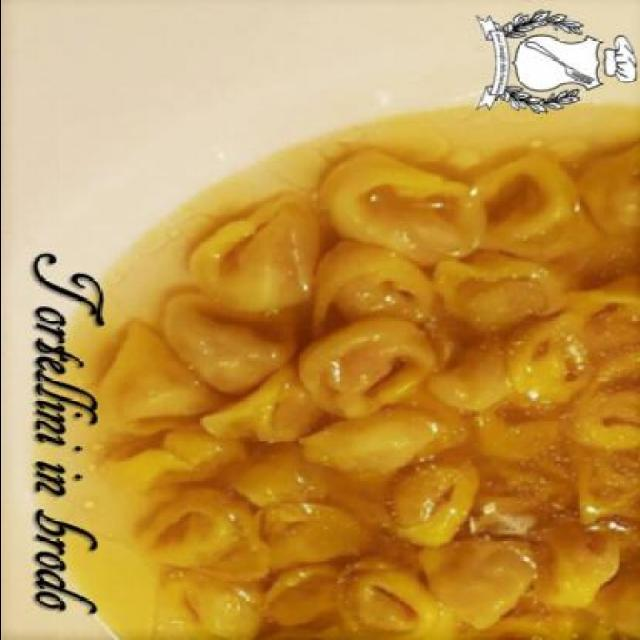Tortellini in broth: (141, 138, 637, 640)
